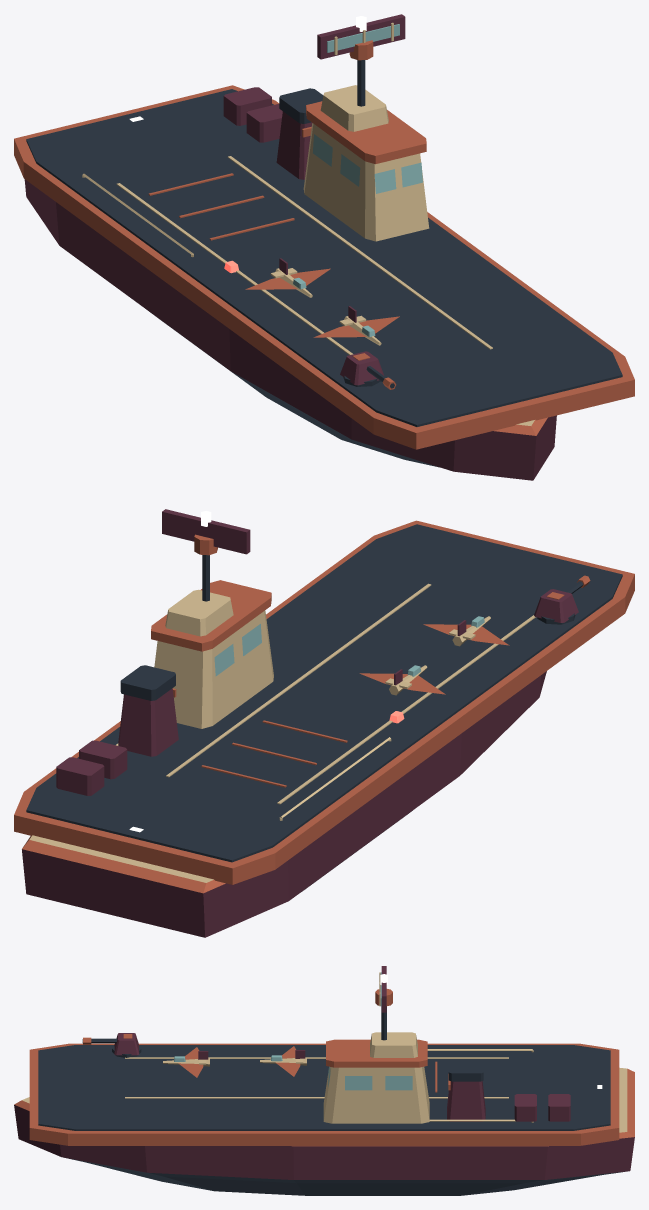
The model's file is light-carrier-enemy.glb.
3 renders of one model, top to bottom at view 1: azimuth 30°, elevation 25°; view 2: azimuth 150°, elevation 25°; view 3: azimuth 270°, elevation 25°, orthographic. The views are drawn at different scales.
Visible parts, largest first — view 1: hull, funnel, radar, turret; view 2: hull, funnel, radar, turret; view 3: hull, funnel, turret, radar.
Part boxes in pixels (<box>): hull: <box>14,60,634,480</box>; funnel: <box>276,88,323,179</box>; radar: <box>317,14,405,60</box>; turret: <box>340,351,384,386</box>; hull: <box>14,520,634,937</box>; funnel: <box>118,665,178,756</box>; radar: <box>162,509,250,555</box>; turret: <box>534,589,578,624</box>; hull: <box>14,1006,634,1195</box>; funnel: <box>447,1060,485,1121</box>; turret: <box>112,1033,141,1057</box>; radar: <box>375,966,392,1012</box>.
Bounding box in the file's own units: 2.85 × 3.29 × 8.32.
